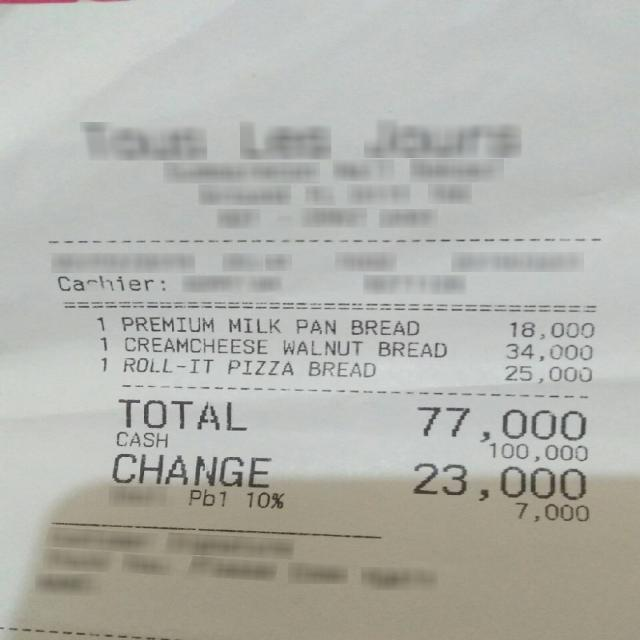kertas: (4, 0, 636, 640)
